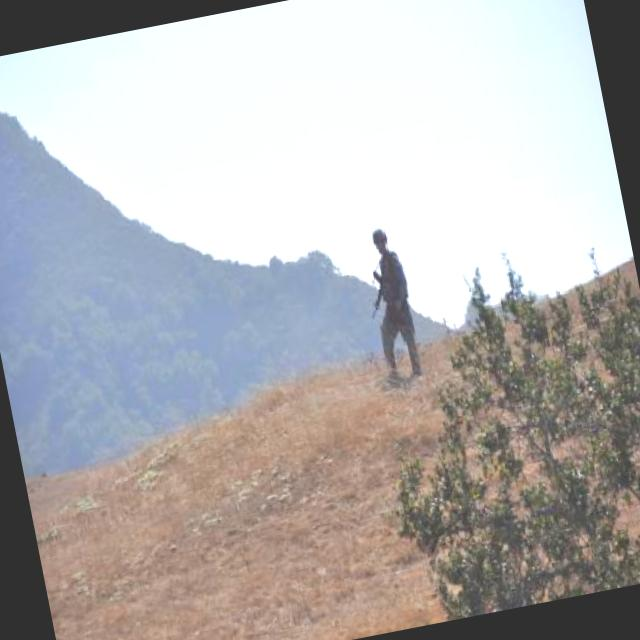Person: (362, 222, 435, 396)
